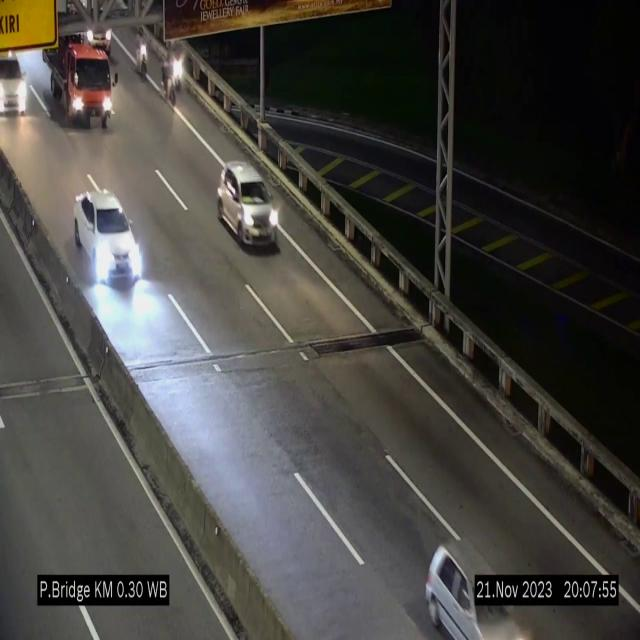Car: (428, 532, 528, 640), (74, 190, 143, 286), (217, 162, 277, 248), (0, 46, 36, 112), (69, 0, 113, 54)
Motorcycle: (162, 47, 180, 114), (132, 24, 150, 81)
Truck: (45, 25, 117, 131)
